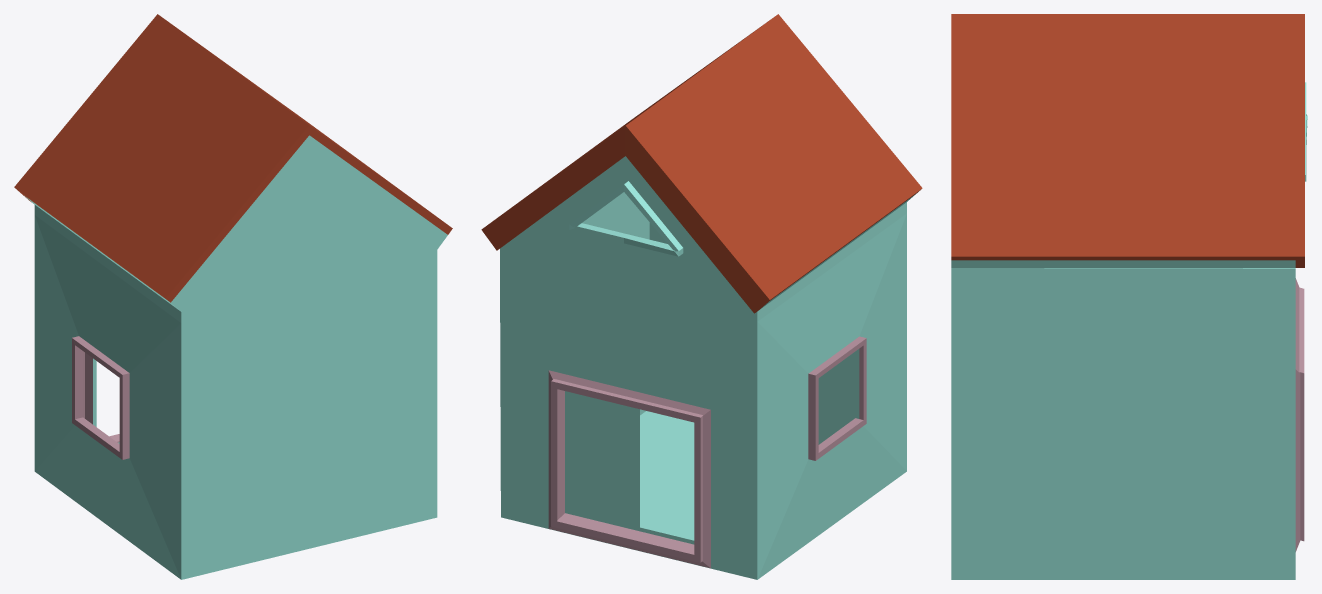
The model's file is ev1deneme.fbx.
3 renders of one model, left to right at view 1: azimuth 30°, elevation 25°; view 2: azimuth 150°, elevation 25°; view 3: azimuth 270°, elevation 25°, orthographic. The views are drawn at different scales.
Parts seen in each view (by area): view 1: Cube, Cube.001, Cube.002, Cube.003; view 2: Cube, Cube.001, Cube.003, Cube.006, Cube.002, Cube.004; view 3: Cube, Cube.001, Cube.003.
Boxes of the visible parts, bbox=[...] form: Cube: bbox=[24, 135, 447, 579]; Cube.001: bbox=[14, 14, 452, 302]; Cube.002: bbox=[72, 336, 129, 459]; Cube.003: bbox=[83, 351, 119, 442]; Cube: bbox=[500, 156, 915, 579]; Cube.001: bbox=[481, 14, 922, 313]; Cube.003: bbox=[548, 370, 710, 568]; Cube.006: bbox=[568, 392, 639, 527]; Cube.002: bbox=[808, 336, 866, 460]; Cube.004: bbox=[569, 184, 678, 256]; Cube: bbox=[951, 82, 1307, 579]; Cube.001: bbox=[951, 14, 1304, 267]; Cube.003: bbox=[1295, 278, 1304, 551].
Bounding box in the file's own units: 224 × 316 × 207.
